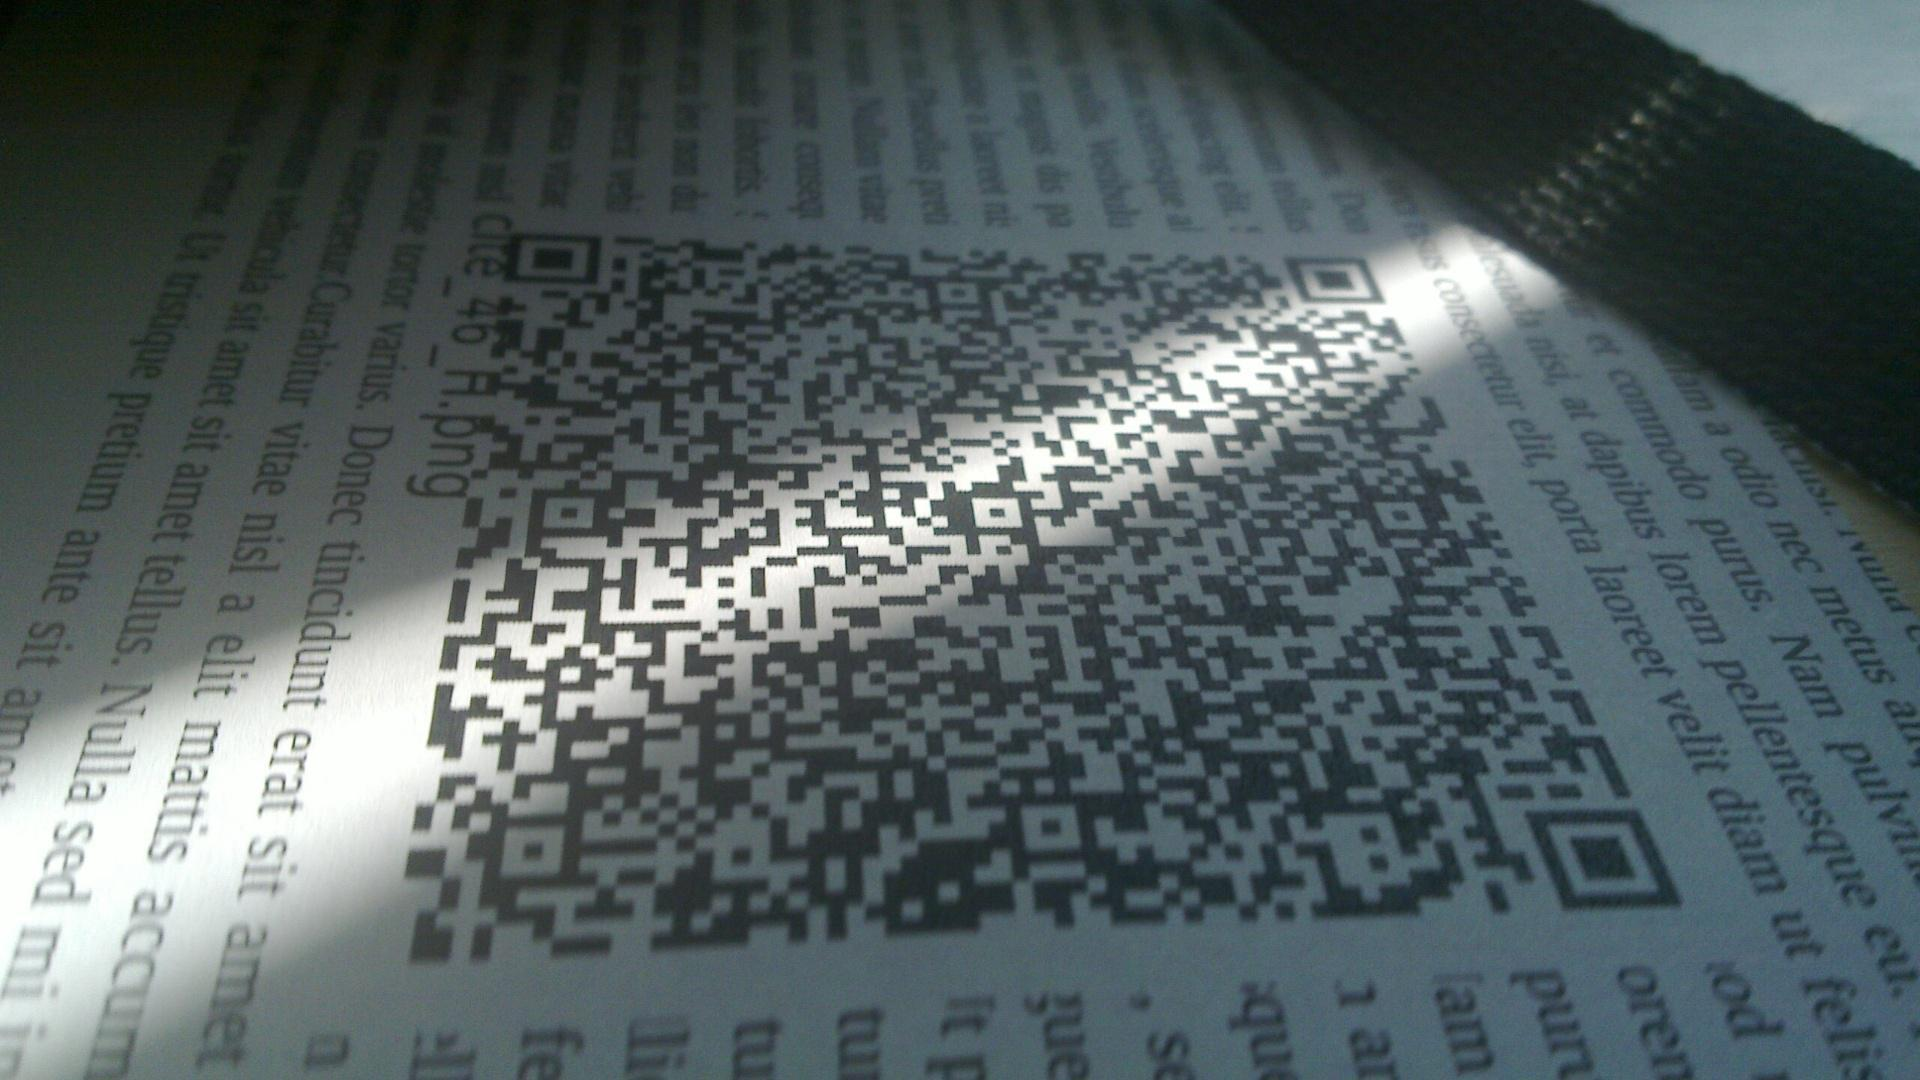Finder pattern: (1515, 798, 1685, 919), (501, 225, 608, 293), (1278, 251, 1386, 307)
